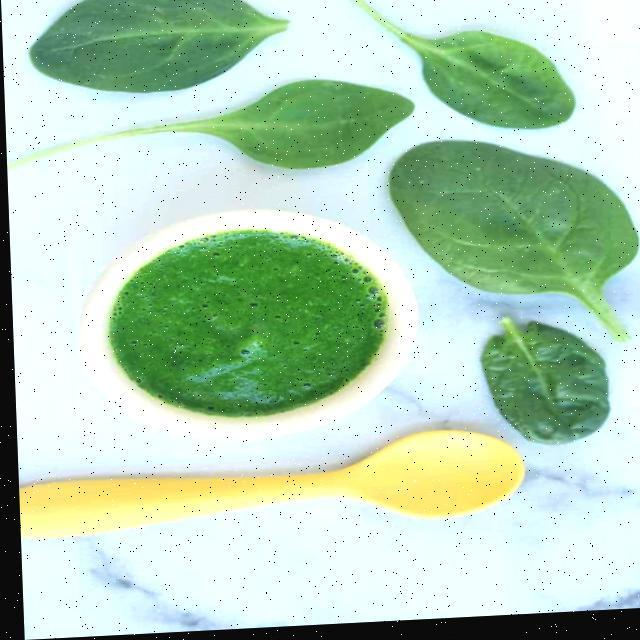Spinach: (375, 130, 640, 370), (3, 73, 422, 214), (325, 0, 594, 155), (9, 0, 304, 114), (464, 305, 617, 464)
